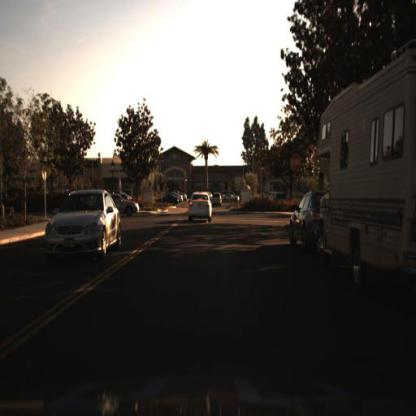car: (42, 188, 121, 265), (287, 186, 332, 254), (185, 188, 214, 226), (107, 194, 141, 216), (221, 192, 240, 204), (211, 192, 222, 209)
truck: (314, 37, 415, 290)
